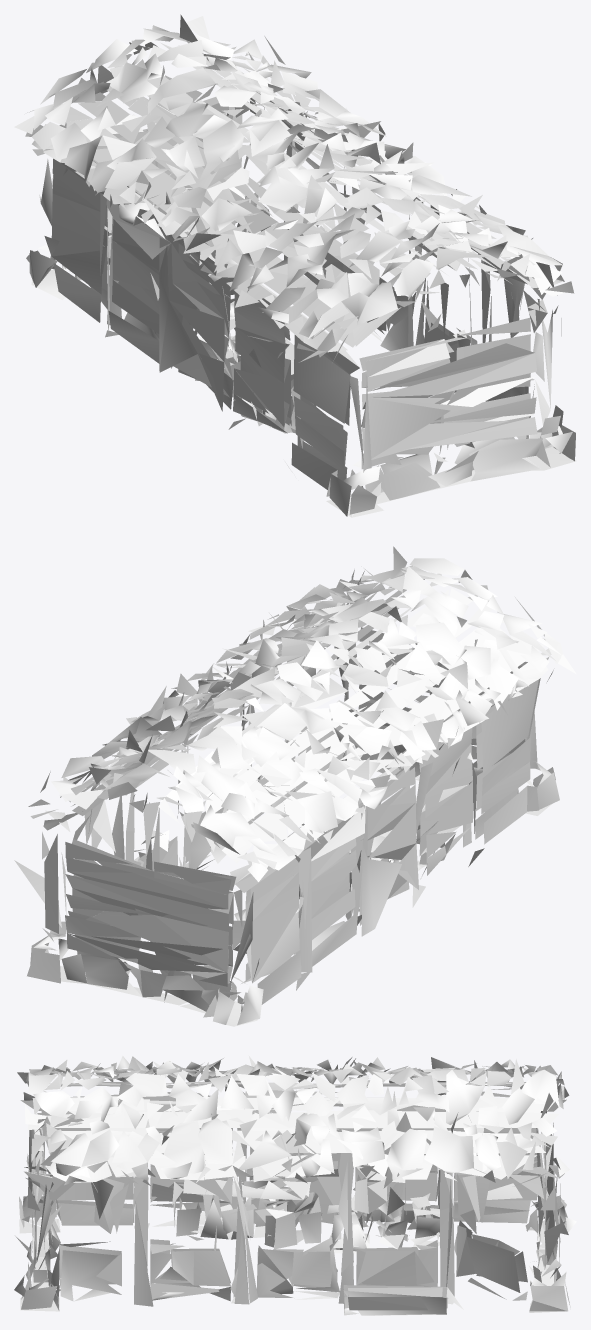
The model's file is stable_hay_lod2.glb.
The picture shows the model from 3 angles, top to bottom: view 1: azimuth 30°, elevation 25°; view 2: azimuth 150°, elevation 25°; view 3: azimuth 270°, elevation 25°; orthographic projection. The views are drawn at different scales.
Parts seen in each view (by area): view 1: stable_hay; view 2: stable_hay; view 3: stable_hay.
Boxes of the visible parts, box(x1,y1,x2,y2) form: stable_hay: box(14, 14, 576, 517); stable_hay: box(14, 546, 576, 1026); stable_hay: box(14, 1055, 576, 1315).
Size of the model in its own units: 7.21 by 6.6 by 14.52.
1 material, 1 textured.
